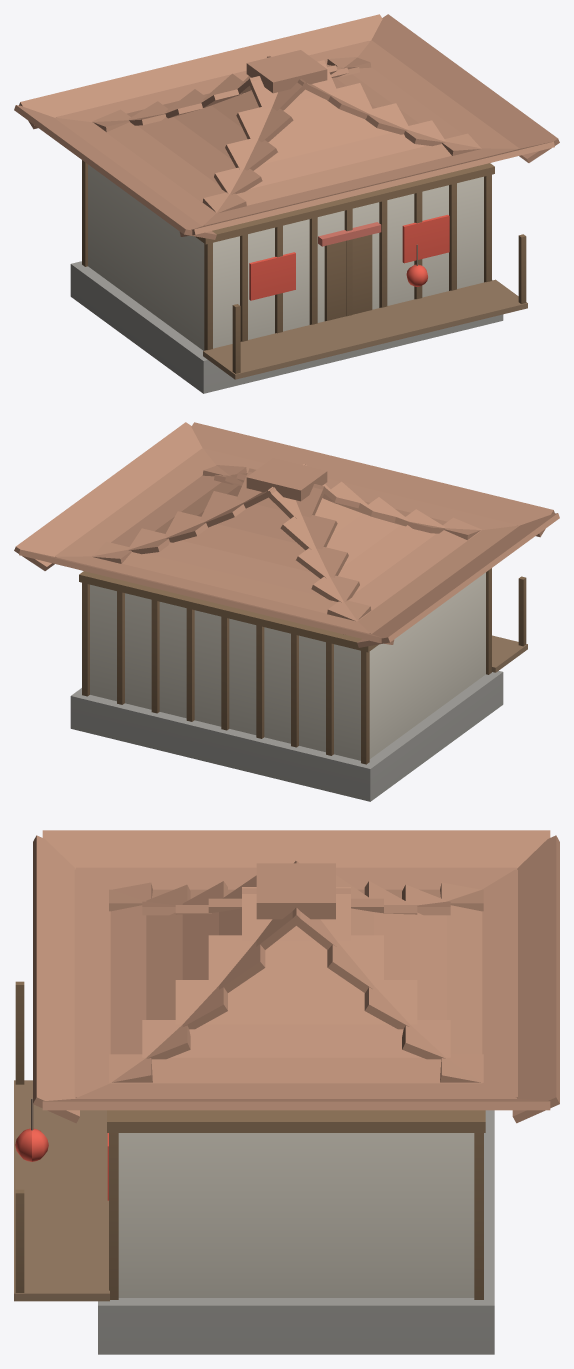
Rendered from haus_kuro.glb.
The picture shows the model from 3 angles, top to bottom: view 1: azimuth 30°, elevation 25°; view 2: azimuth 150°, elevation 25°; view 3: azimuth 270°, elevation 25°; orthographic projection. The views are drawn at different scales.
Visible parts, largest first — view 1: G_haus_kuro; view 2: G_haus_kuro; view 3: G_haus_kuro.
Boxes of the visible parts, x1,y1,x2,y2 form: G_haus_kuro: [14, 14, 559, 393]; G_haus_kuro: [14, 422, 559, 801]; G_haus_kuro: [14, 830, 559, 1354].
Size of the model in its own units: 10.79 by 6.65 by 9.09.
